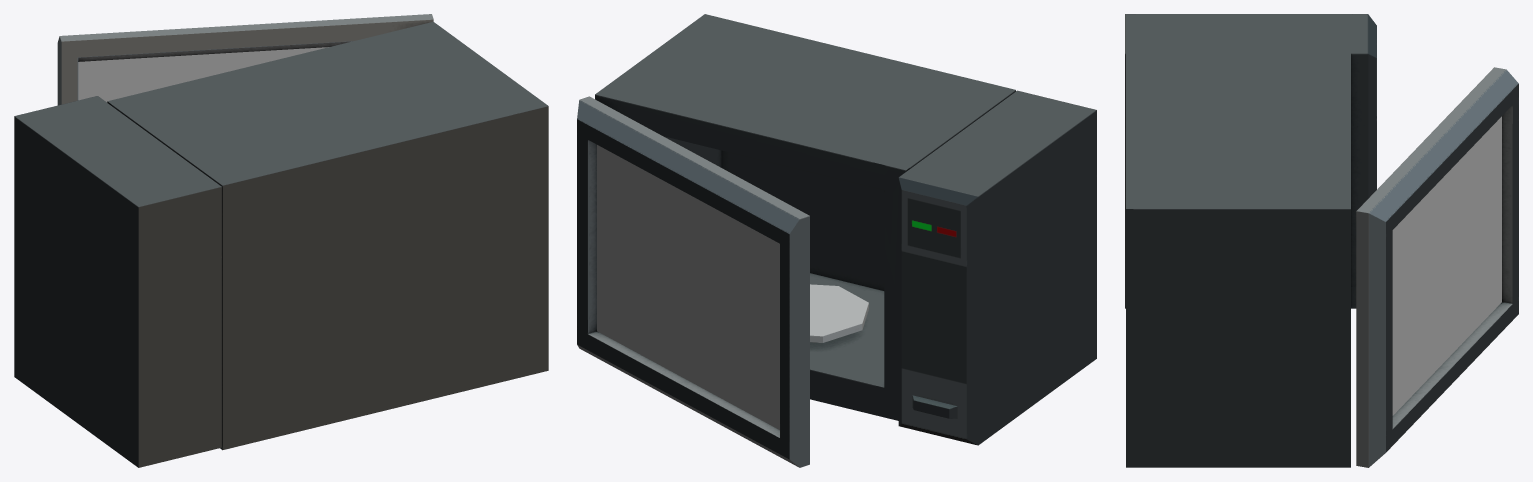
The model's file is Oven.fbx.
3 views of the same model, side by side, from view 1: azimuth 30°, elevation 25°; view 2: azimuth 150°, elevation 25°; view 3: azimuth 270°, elevation 25° (orthographic). The views are drawn at different scales.
Parts seen in each view (by area): view 1: polySurface272; view 2: polySurface272; view 3: polySurface272.
Boxes of the visible parts, x1=… form: polySurface272: x1=14, y1=14, x2=548, y2=467; polySurface272: x1=577, y1=14, x2=1096, y2=467; polySurface272: x1=1125, y1=14, x2=1518, y2=467.
Bounding box in the file's own units: 18.74 × 11.33 × 15.64.
2 materials, 1 textured.
